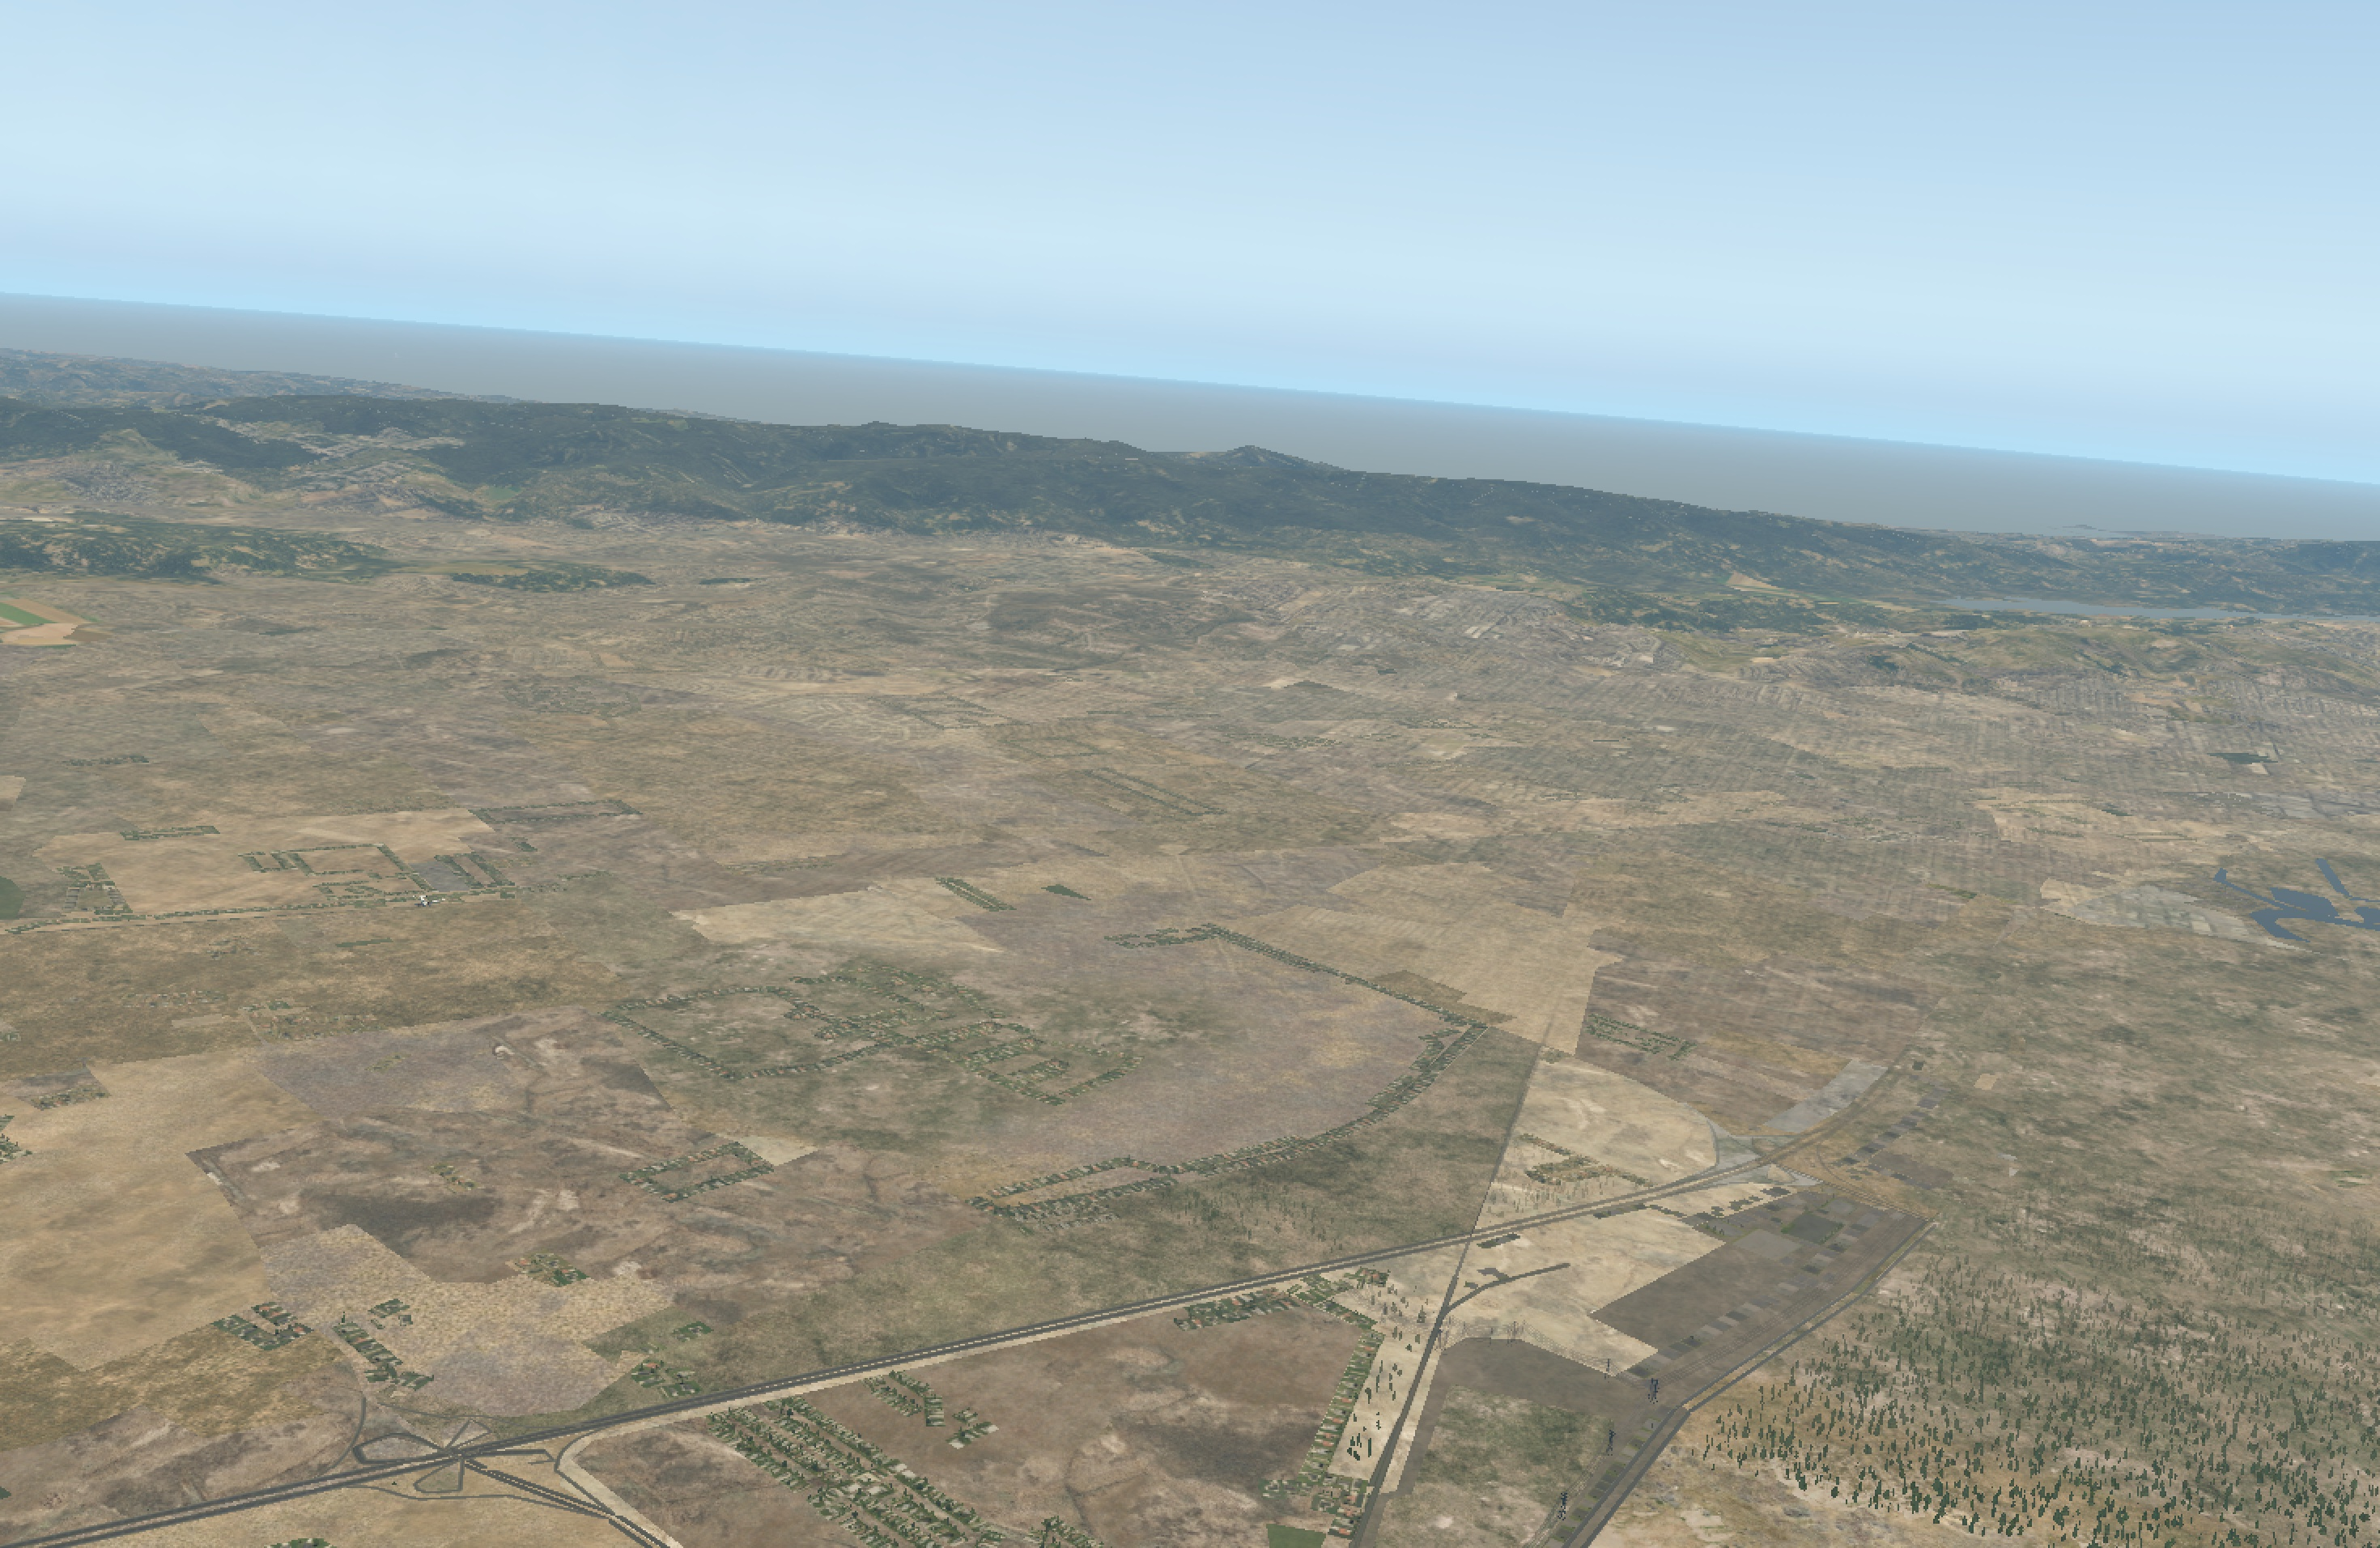aircraft: (404, 897, 442, 911)
